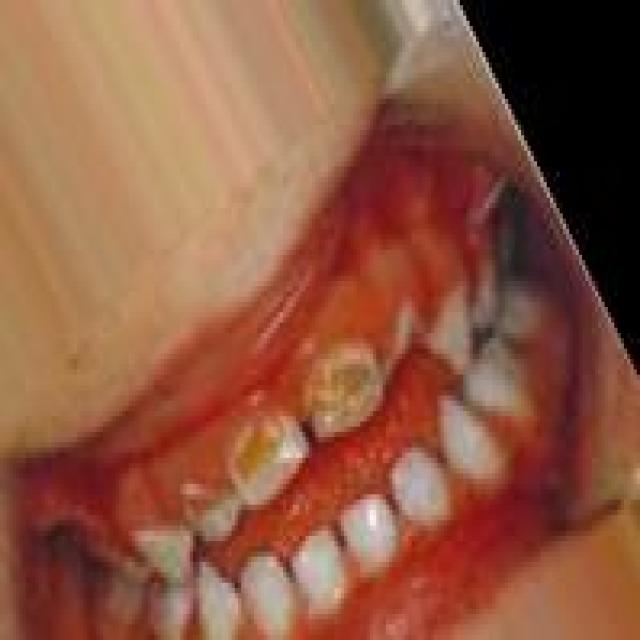caries: (299, 339, 386, 443), (226, 406, 309, 511), (182, 478, 241, 546)
